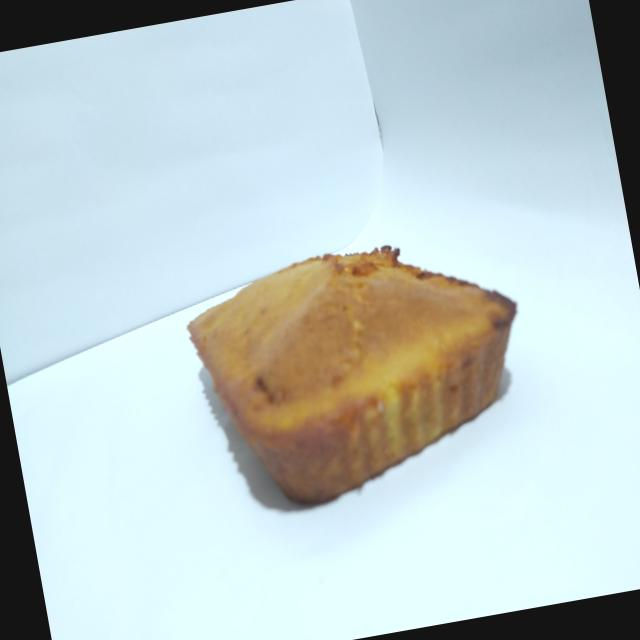Sopa: (158, 208, 550, 536)
